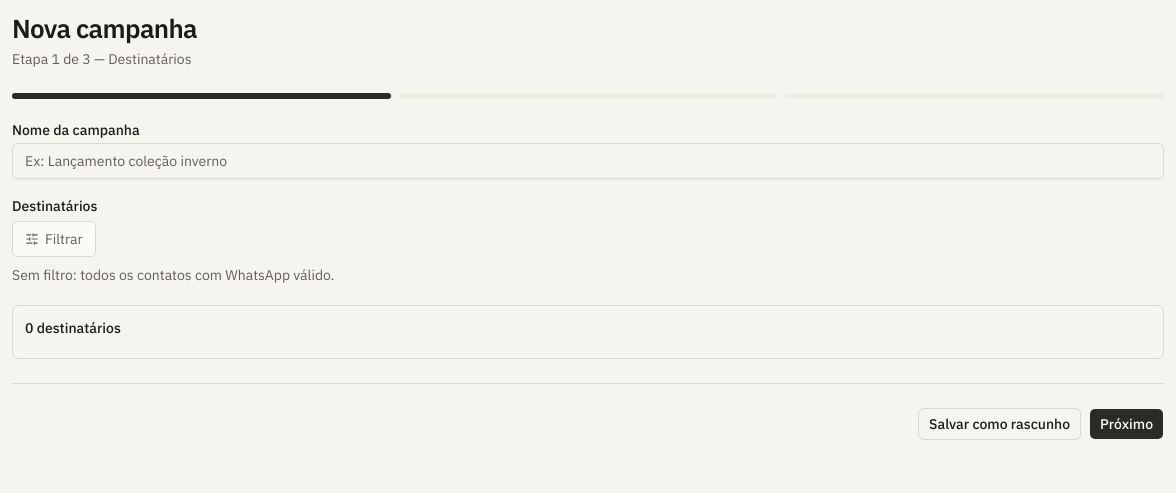
Test case: B42-02 — campanha escolhe quem recebe pelo filtro de Contatos › CA-B42-09: should avisar e ficar na etapa 1 quando o filtro não traz ninguém
In the field labelled "Nome da campanha": x=588, y=160 [12,142,1164,178], type "Promo"
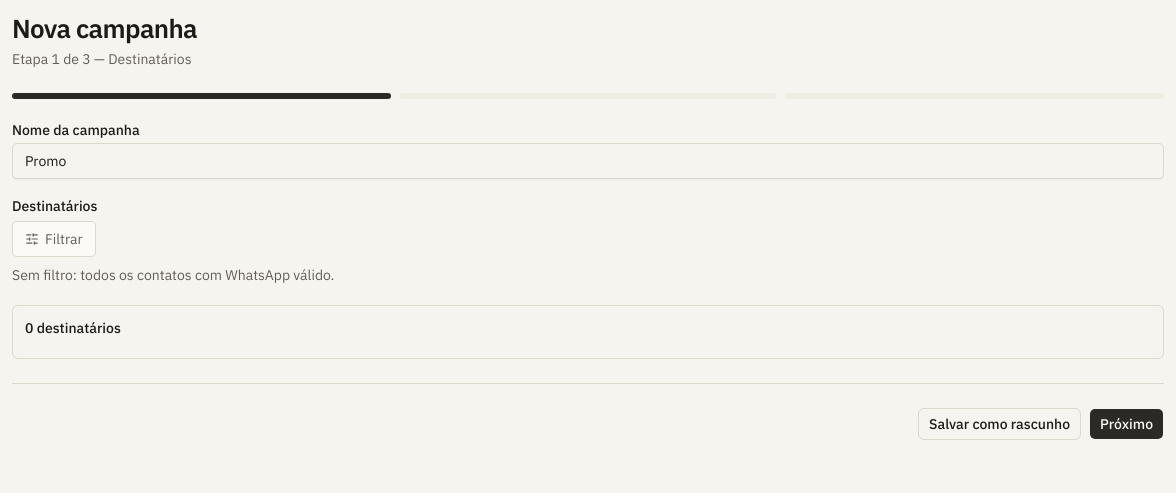
Expected: the text "0 destinatários" is shown, [25,318,121,338]
Click the button "Próximo": x=1126, y=424 [1089,408,1164,440]
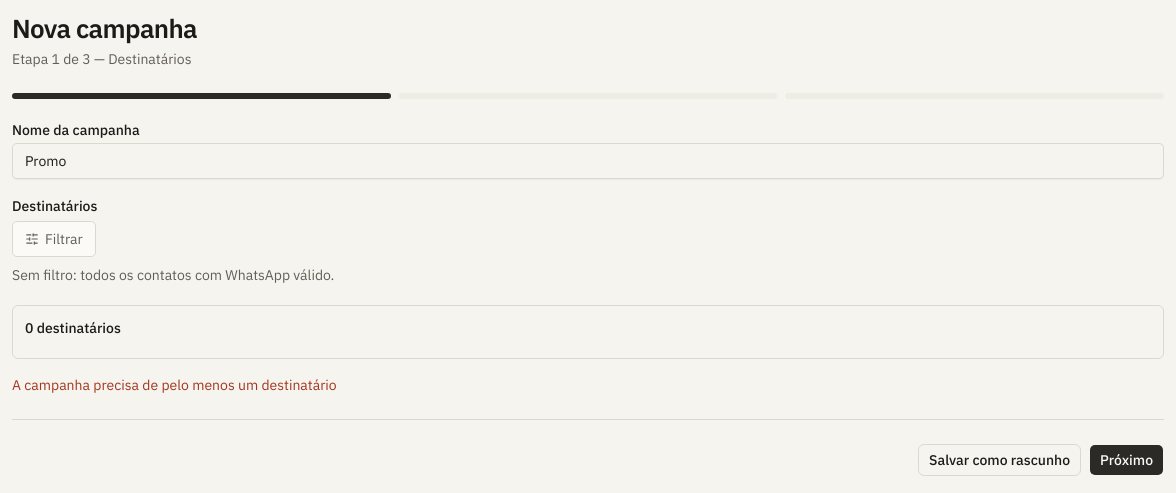
Expected: the text "Etapa 1 de 3 — Destinatários" is shown, [12,50,192,68]
Now the text "A campanha precisa de pelo menos um destinatário" is shown, box [12,376,337,394]
